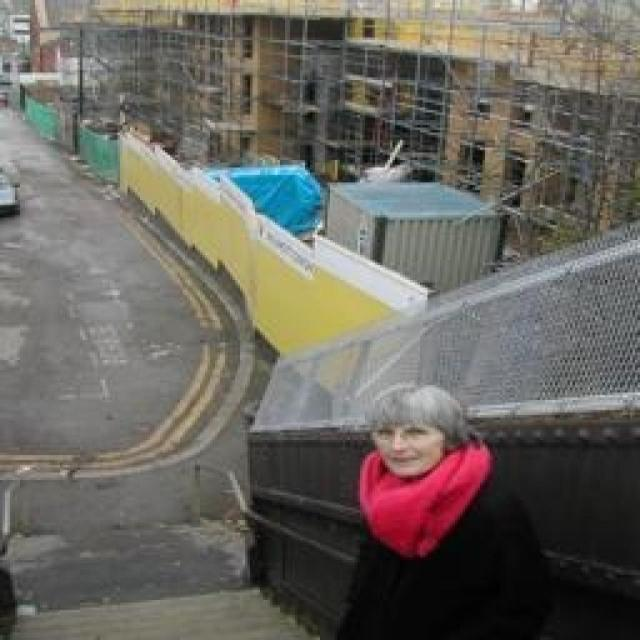Helmet: (319, 444, 586, 640), (344, 371, 468, 489)
